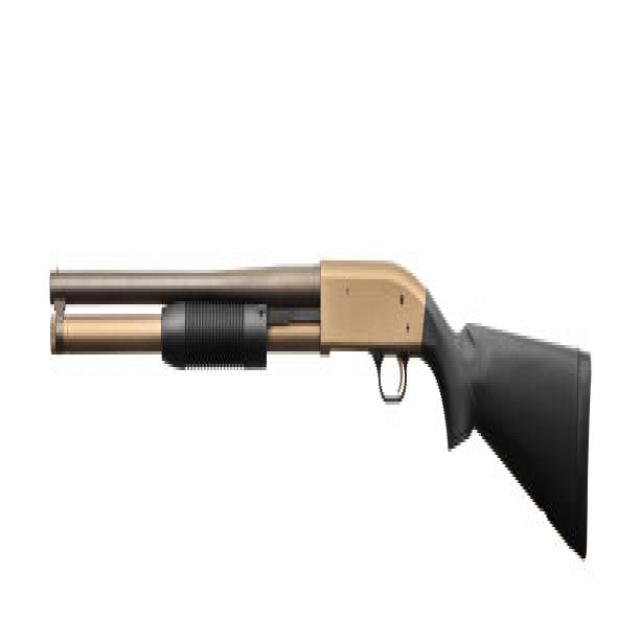rifle: (45, 258, 596, 563)
